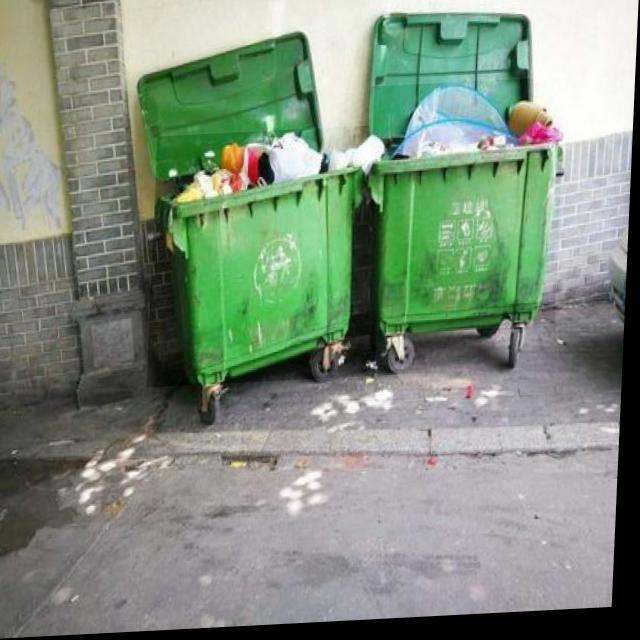overflow: (150, 129, 387, 389), (364, 83, 566, 338)
